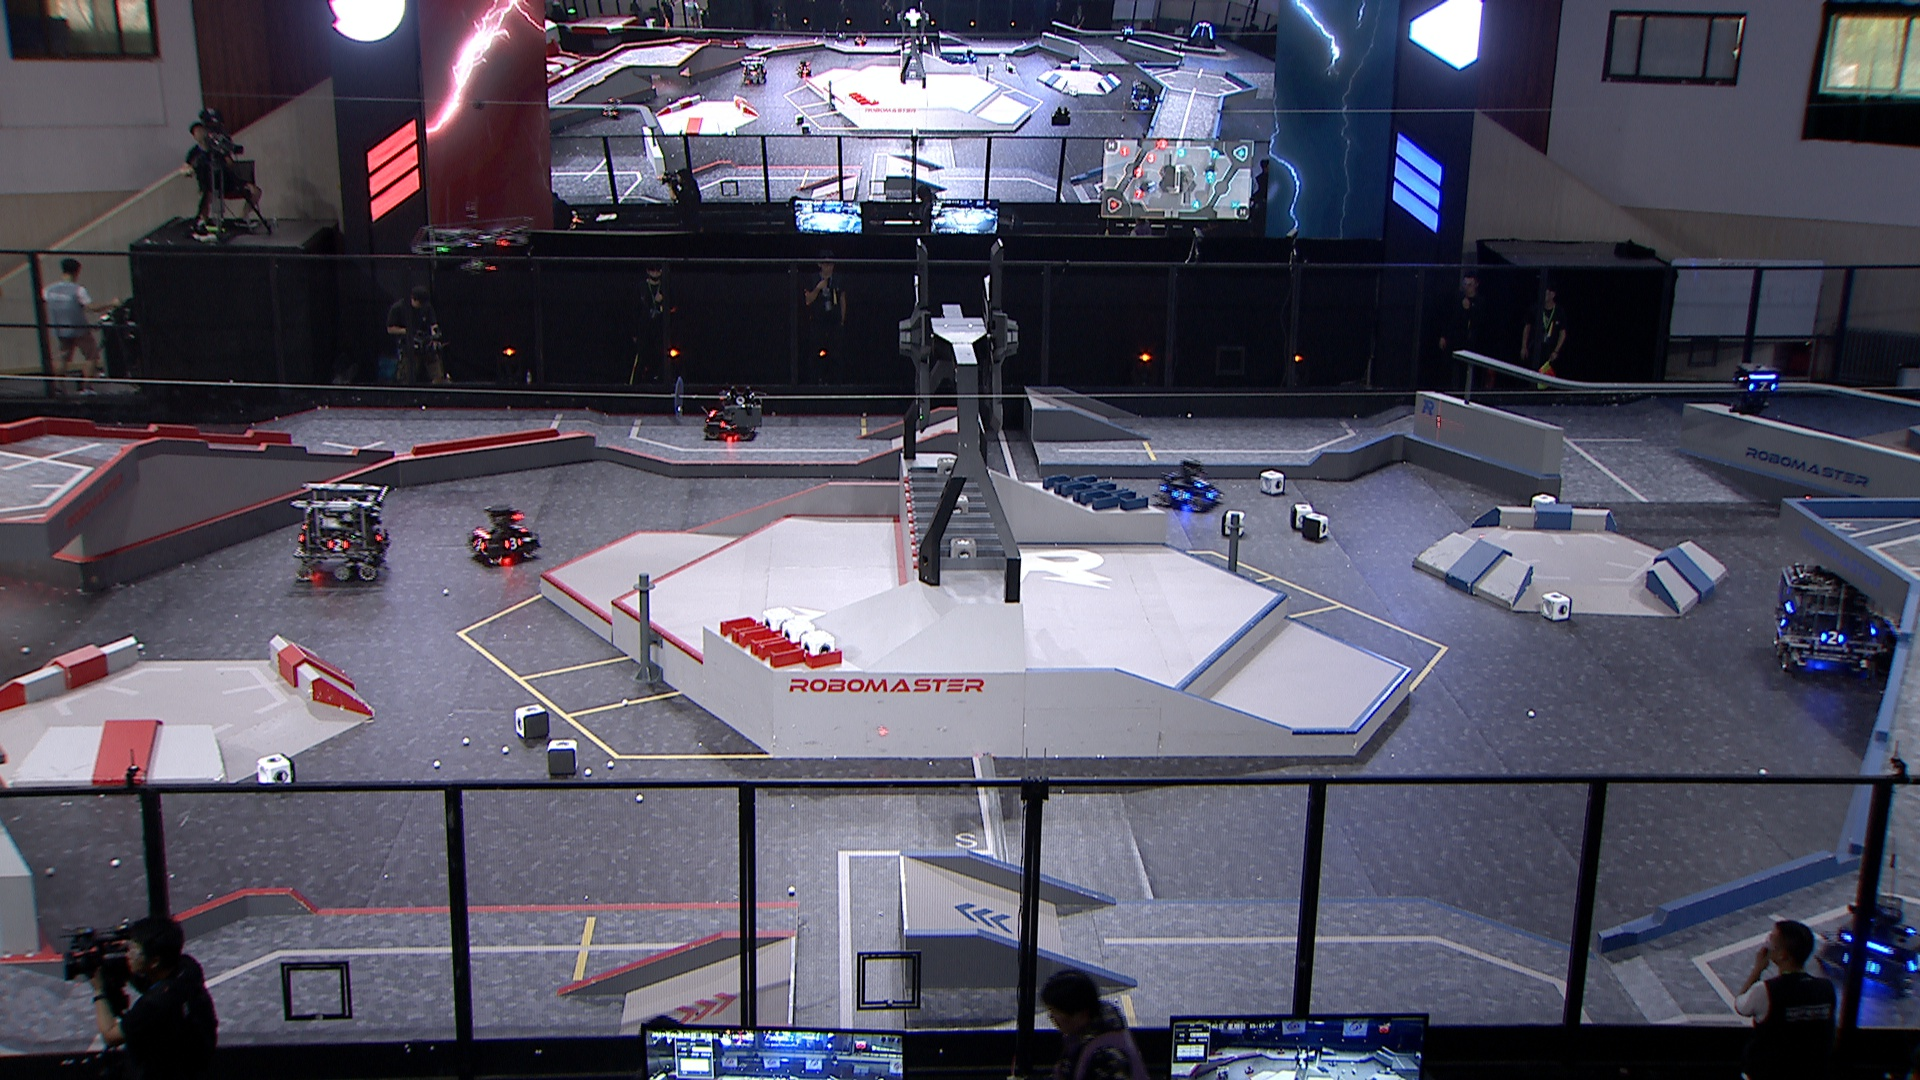armor: (1820, 628, 1846, 647), (324, 537, 349, 553), (1747, 380, 1776, 392), (1192, 477, 1215, 491), (502, 537, 524, 550), (1171, 487, 1191, 500), (473, 538, 487, 553), (1205, 487, 1218, 500)
car: (1768, 559, 1888, 676), (287, 479, 392, 584), (1817, 889, 1920, 996), (467, 502, 541, 568), (1153, 458, 1228, 514), (702, 396, 760, 444)
ignore: (1126, 79, 1158, 113), (1185, 22, 1218, 51), (738, 55, 769, 83), (599, 95, 626, 120)
watcher: (1727, 363, 1783, 414)
